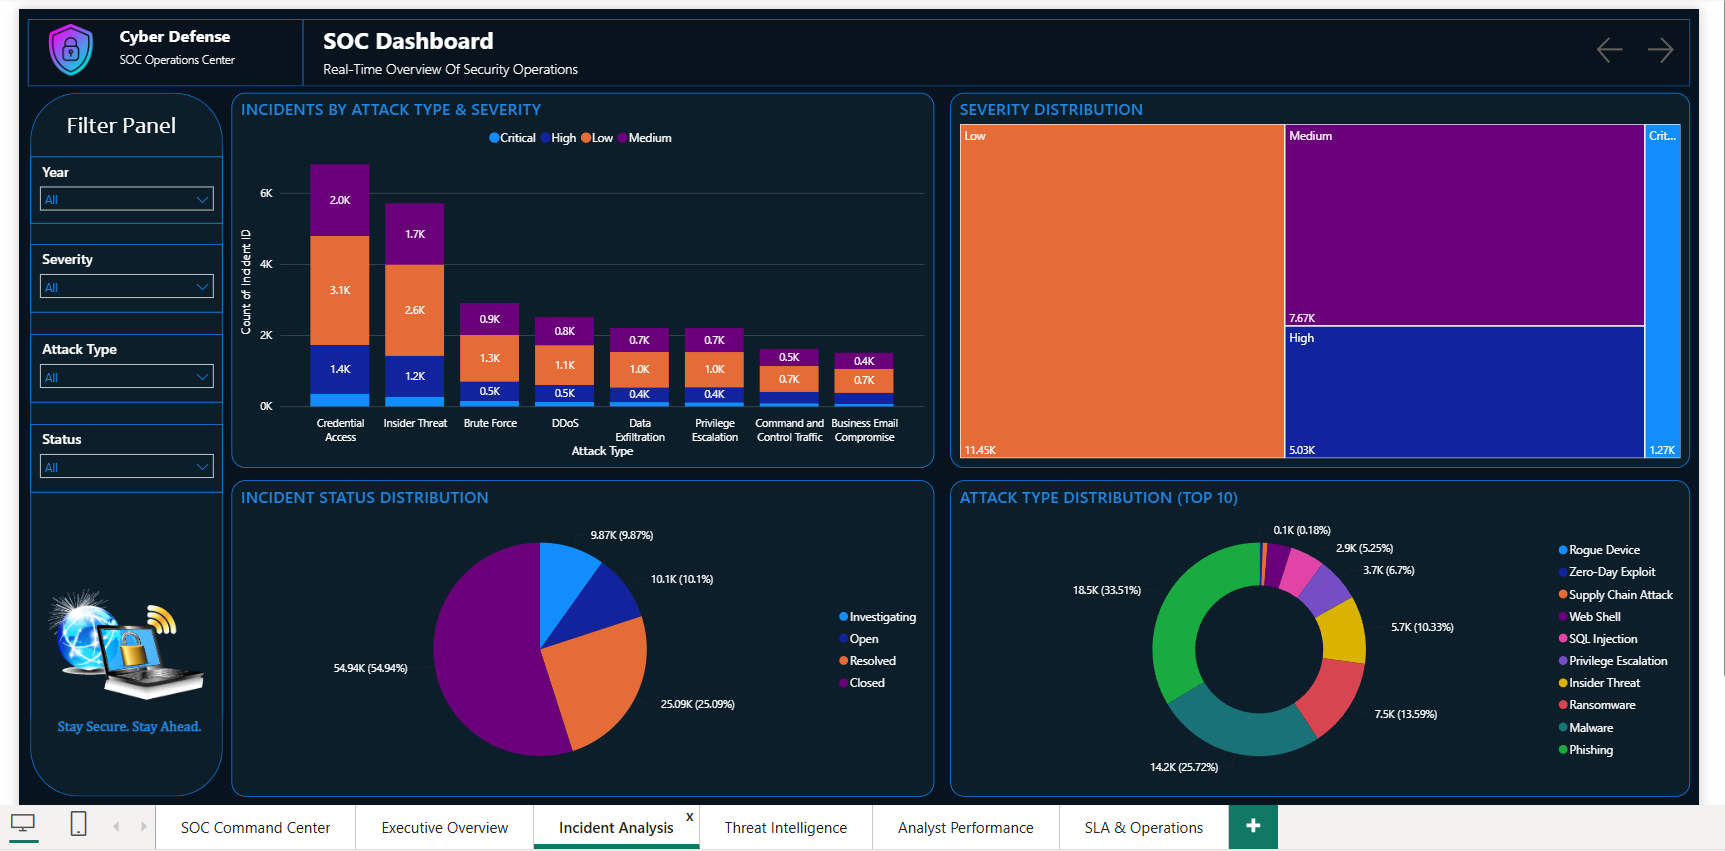

What the dashboard file says about the page in this screenshot:
{"tool":"powerbi","page":{"name":"Incident Analysis","canvas":[1920,1080],"ordinal":2},"visuals":[{"type":"group","id":"g1","title":"Group 8","box":[324.3,11.4,1585.7,77.1],"z":0},{"type":"shape","box":[10,12,315,77],"z":1000,"group":"g2"},{"type":"donutChart","title":"ATTACK TYPE DISTRIBUTION (TOP 10)","fields":{"Y":["CountNonNull(Incident.IncidentID)"],"Category":["Incident.AttackType"]},"box":[1064.3,538.6,845.7,361.4],"z":1000},{"type":"group","id":"g2","title":"Group 7","box":[10,12,315,77],"z":2000},{"type":"textbox","title":"Cyber Defense","box":[110,17,154,30],"z":2000,"group":"g2"},{"type":"actionButton","box":[1855.7,27.1,40,40],"z":3000},{"type":"textbox","title":"SOC Operations Center","box":[110,49,195,27],"z":3000,"group":"g2"},{"type":"image","box":[17,14,84,67],"z":4000,"group":"g2"},{"type":"actionButton","box":[1798.6,27.1,40,40],"z":4000},{"type":"shape","box":[324.3,11.4,1585.7,77.1],"z":5000,"group":"g1"},{"type":"shape","box":[12.9,95.7,220,804.3],"z":5000},{"type":"textbox","title":"SOC Dashboard","box":[342.7,16.4,390.1,64.1],"z":6000,"group":"g1"},{"type":"image","box":[32.9,661.4,178.6,128.6],"z":6000},{"type":"textbox","title":"Real-Time Overview Of Security Operations","box":[342.7,56.5,632.9,24],"z":7000,"group":"g1"},{"type":"shape","title":"Stay Secure. Stay Ahead.","box":[44.3,811.4,187.1,32.9],"z":7000},{"type":"shape","title":"Filter Panel","box":[54.3,115.7,132.9,35.7],"z":8000},{"type":"slicer","fields":{"Values":["Date.Year"]},"box":[12.9,168.6,220,77.1],"z":9000},{"type":"slicer","fields":{"Values":["Incident.Severity"]},"box":[12.9,268.6,220,78.6],"z":10000},{"type":"slicer","fields":{"Values":["Incident.AttackType"]},"box":[12.9,371.4,220,78.6],"z":11000},{"type":"slicer","fields":{"Values":["Incident.Status"]},"box":[12.9,474.3,220,78.6],"z":12000},{"type":"pieChart","title":"INCIDENT STATUS DISTRIBUTION","fields":{"Y":["CountNonNull(Incident.IncidentID)"],"Category":["Incident.Status"]},"box":[242.9,538.6,802.9,361.4],"z":13000},{"type":"columnChart","title":"INCIDENTS BY ATTACK TYPE & SEVERITY","fields":{"Category":["Incident.AttackType"],"Y":["CountNonNull(Incident.IncidentID)"],"Series":["Incident.Severity"]},"box":[242.9,95.7,802.9,428.6],"z":14000},{"type":"treemap","title":"SEVERITY DISTRIBUTION","fields":{"Details":["Incident.Severity"],"Values":["CountNonNull(Incident.IncidentID)"]},"box":[1064.3,95.7,845.7,428.6],"z":15000}]}

Visuals, with their boxes on the page's 1920x1080 design canvas (x1, y1, x2, y2). These are canvas units, not pixel positions in the 1725x851 screenshot, which may show the page scaled, cropped or inside an application window:
"Group 8" group: bbox(324, 11, 1910, 88)
shape: bbox(10, 12, 325, 89)
"ATTACK TYPE DISTRIBUTION (TOP 10)" donutChart: bbox(1064, 539, 1910, 900)
"Group 7" group: bbox(10, 12, 325, 89)
"Cyber Defense" textbox: bbox(110, 17, 264, 47)
actionButton: bbox(1856, 27, 1896, 67)
"SOC Operations Center" textbox: bbox(110, 49, 305, 76)
image: bbox(17, 14, 101, 81)
actionButton: bbox(1799, 27, 1839, 67)
shape: bbox(324, 11, 1910, 88)
shape: bbox(13, 96, 233, 900)
"SOC Dashboard" textbox: bbox(343, 16, 733, 80)
image: bbox(33, 661, 212, 790)
"Real-Time Overview Of Security Operations" textbox: bbox(343, 56, 976, 80)
"Stay Secure. Stay Ahead." shape: bbox(44, 811, 231, 844)
"Filter Panel" shape: bbox(54, 116, 187, 151)
slicer - Date.Year: bbox(13, 169, 233, 246)
slicer - Incident.Severity: bbox(13, 269, 233, 347)
slicer - Incident.AttackType: bbox(13, 371, 233, 450)
slicer - Incident.Status: bbox(13, 474, 233, 553)
"INCIDENT STATUS DISTRIBUTION" pieChart: bbox(243, 539, 1046, 900)
"INCIDENTS BY ATTACK TYPE & SEVERITY" columnChart: bbox(243, 96, 1046, 524)
"SEVERITY DISTRIBUTION" treemap: bbox(1064, 96, 1910, 524)
